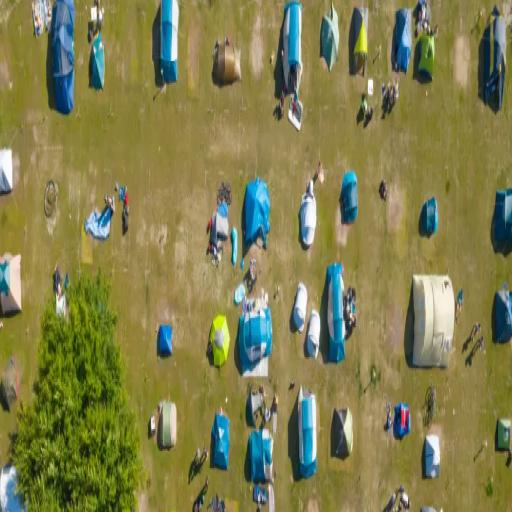tent: (51, 2, 77, 124), (324, 262, 347, 368), (296, 387, 318, 481), (244, 180, 272, 250), (319, 0, 341, 76), (158, 0, 177, 85), (0, 253, 23, 318), (249, 431, 276, 482), (492, 287, 512, 350), (394, 7, 412, 75), (211, 412, 230, 476), (332, 406, 353, 460), (339, 165, 358, 223), (420, 198, 441, 243), (293, 280, 307, 338), (89, 42, 105, 92), (424, 436, 441, 482), (156, 318, 174, 361), (306, 306, 320, 358), (394, 400, 412, 438)
